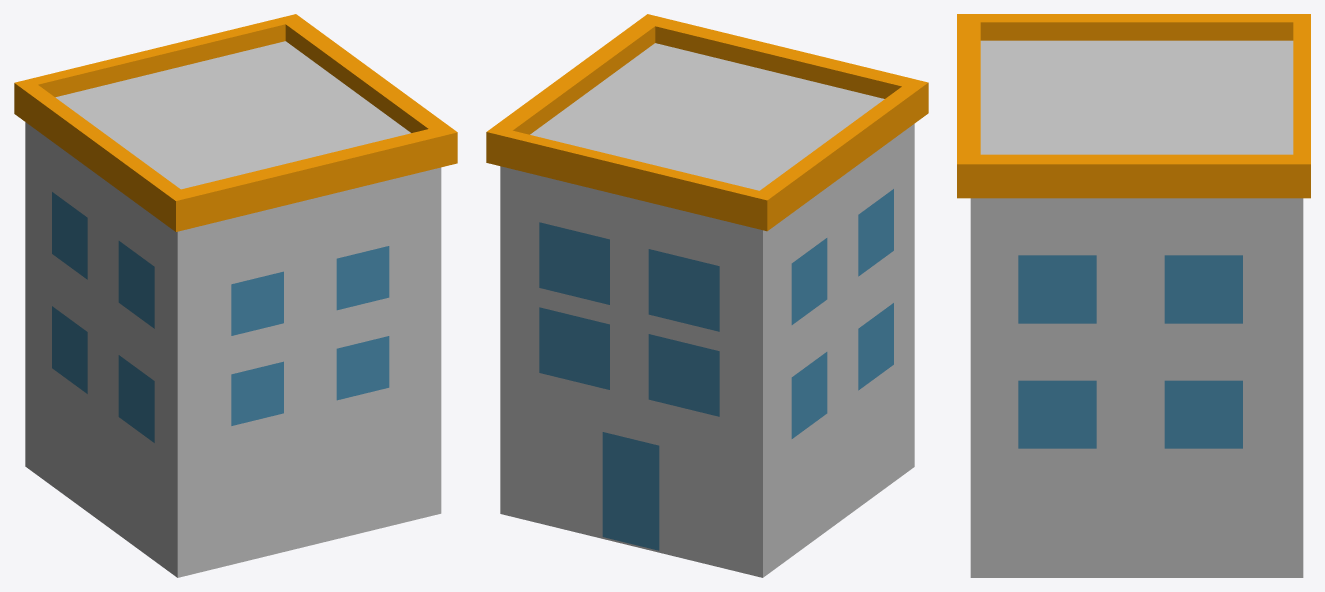
File: building_small_orang.glb
3 renders of one model, left to right at view 1: azimuth 30°, elevation 25°; view 2: azimuth 150°, elevation 25°; view 3: azimuth 270°, elevation 25°, orthographic. The views are drawn at different scales.
Parts seen in each view (by area): view 1: building_small_orange; view 2: building_small_orange; view 3: building_small_orange.
Part boxes in pixels (bbox=[...]): building_small_orange: bbox=[14, 14, 457, 577]; building_small_orange: bbox=[486, 14, 928, 577]; building_small_orange: bbox=[957, 14, 1310, 577].
Bounding box in the file's own units: 11.48 × 14.91 × 11.41.
1 material, 1 textured.
